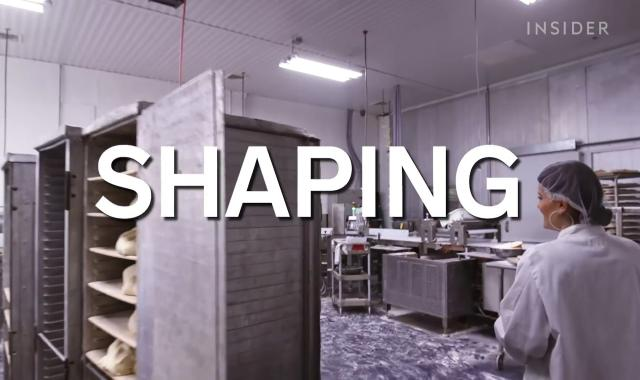hairnet: (539, 163, 615, 227)
